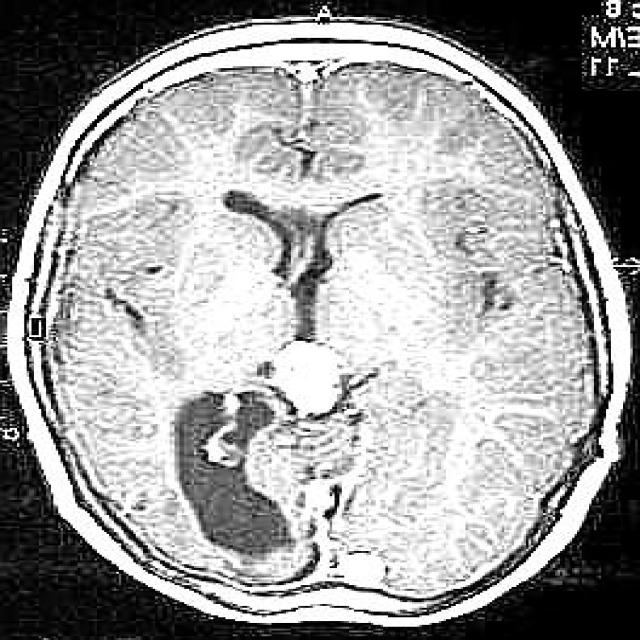Tumor-Cell: (209, 319, 401, 467)
